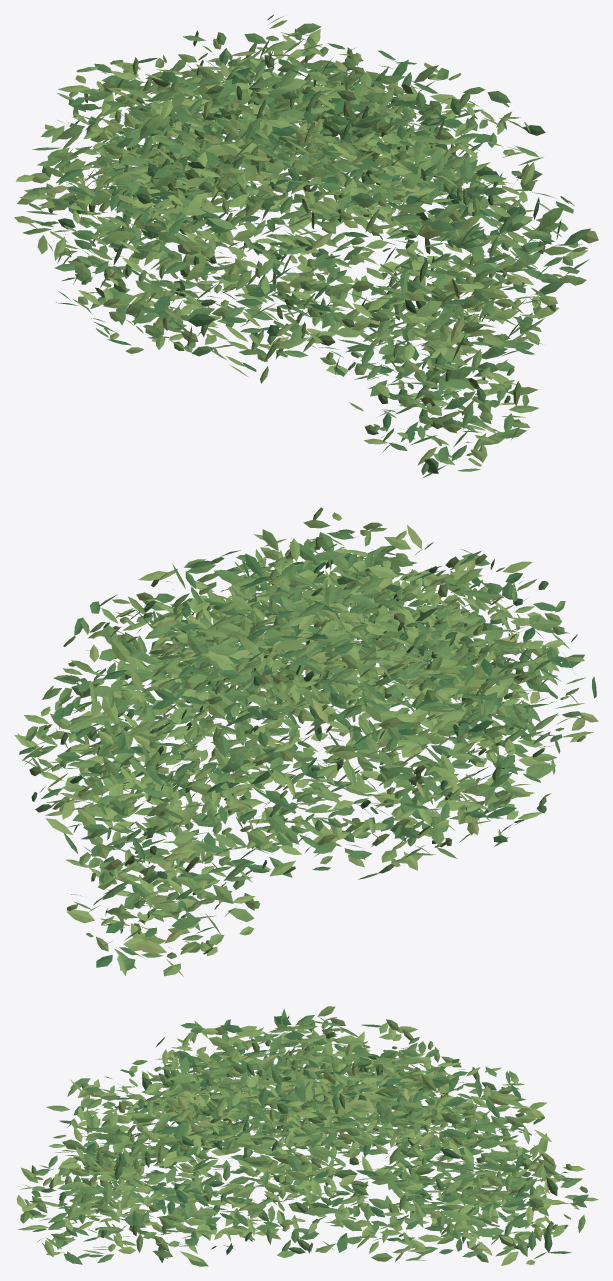
File: holy_canopy4_crown.glb
The picture shows the model from 3 angles, top to bottom: view 1: azimuth 30°, elevation 25°; view 2: azimuth 150°, elevation 25°; view 3: azimuth 270°, elevation 25°; orthographic projection. The views are drawn at different scales.
Parts seen in each view (by area): view 1: holy_canopy4; view 2: holy_canopy4; view 3: holy_canopy4.
Part boxes in pixels (x1=…): holy_canopy4: x1=14, y1=14, x2=598, y2=477; holy_canopy4: x1=14, y1=507, x2=598, y2=976; holy_canopy4: x1=16, y1=1006, x2=598, y2=1266.
Bounding box in the file's own units: 21.1 × 13.3 × 29.99.
Materials: 1 (1 with a texture image).
